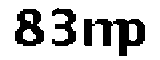3: (50, 8, 78, 50)
8: (12, 5, 45, 49)
n: (80, 12, 112, 50)
p: (116, 17, 146, 60)
